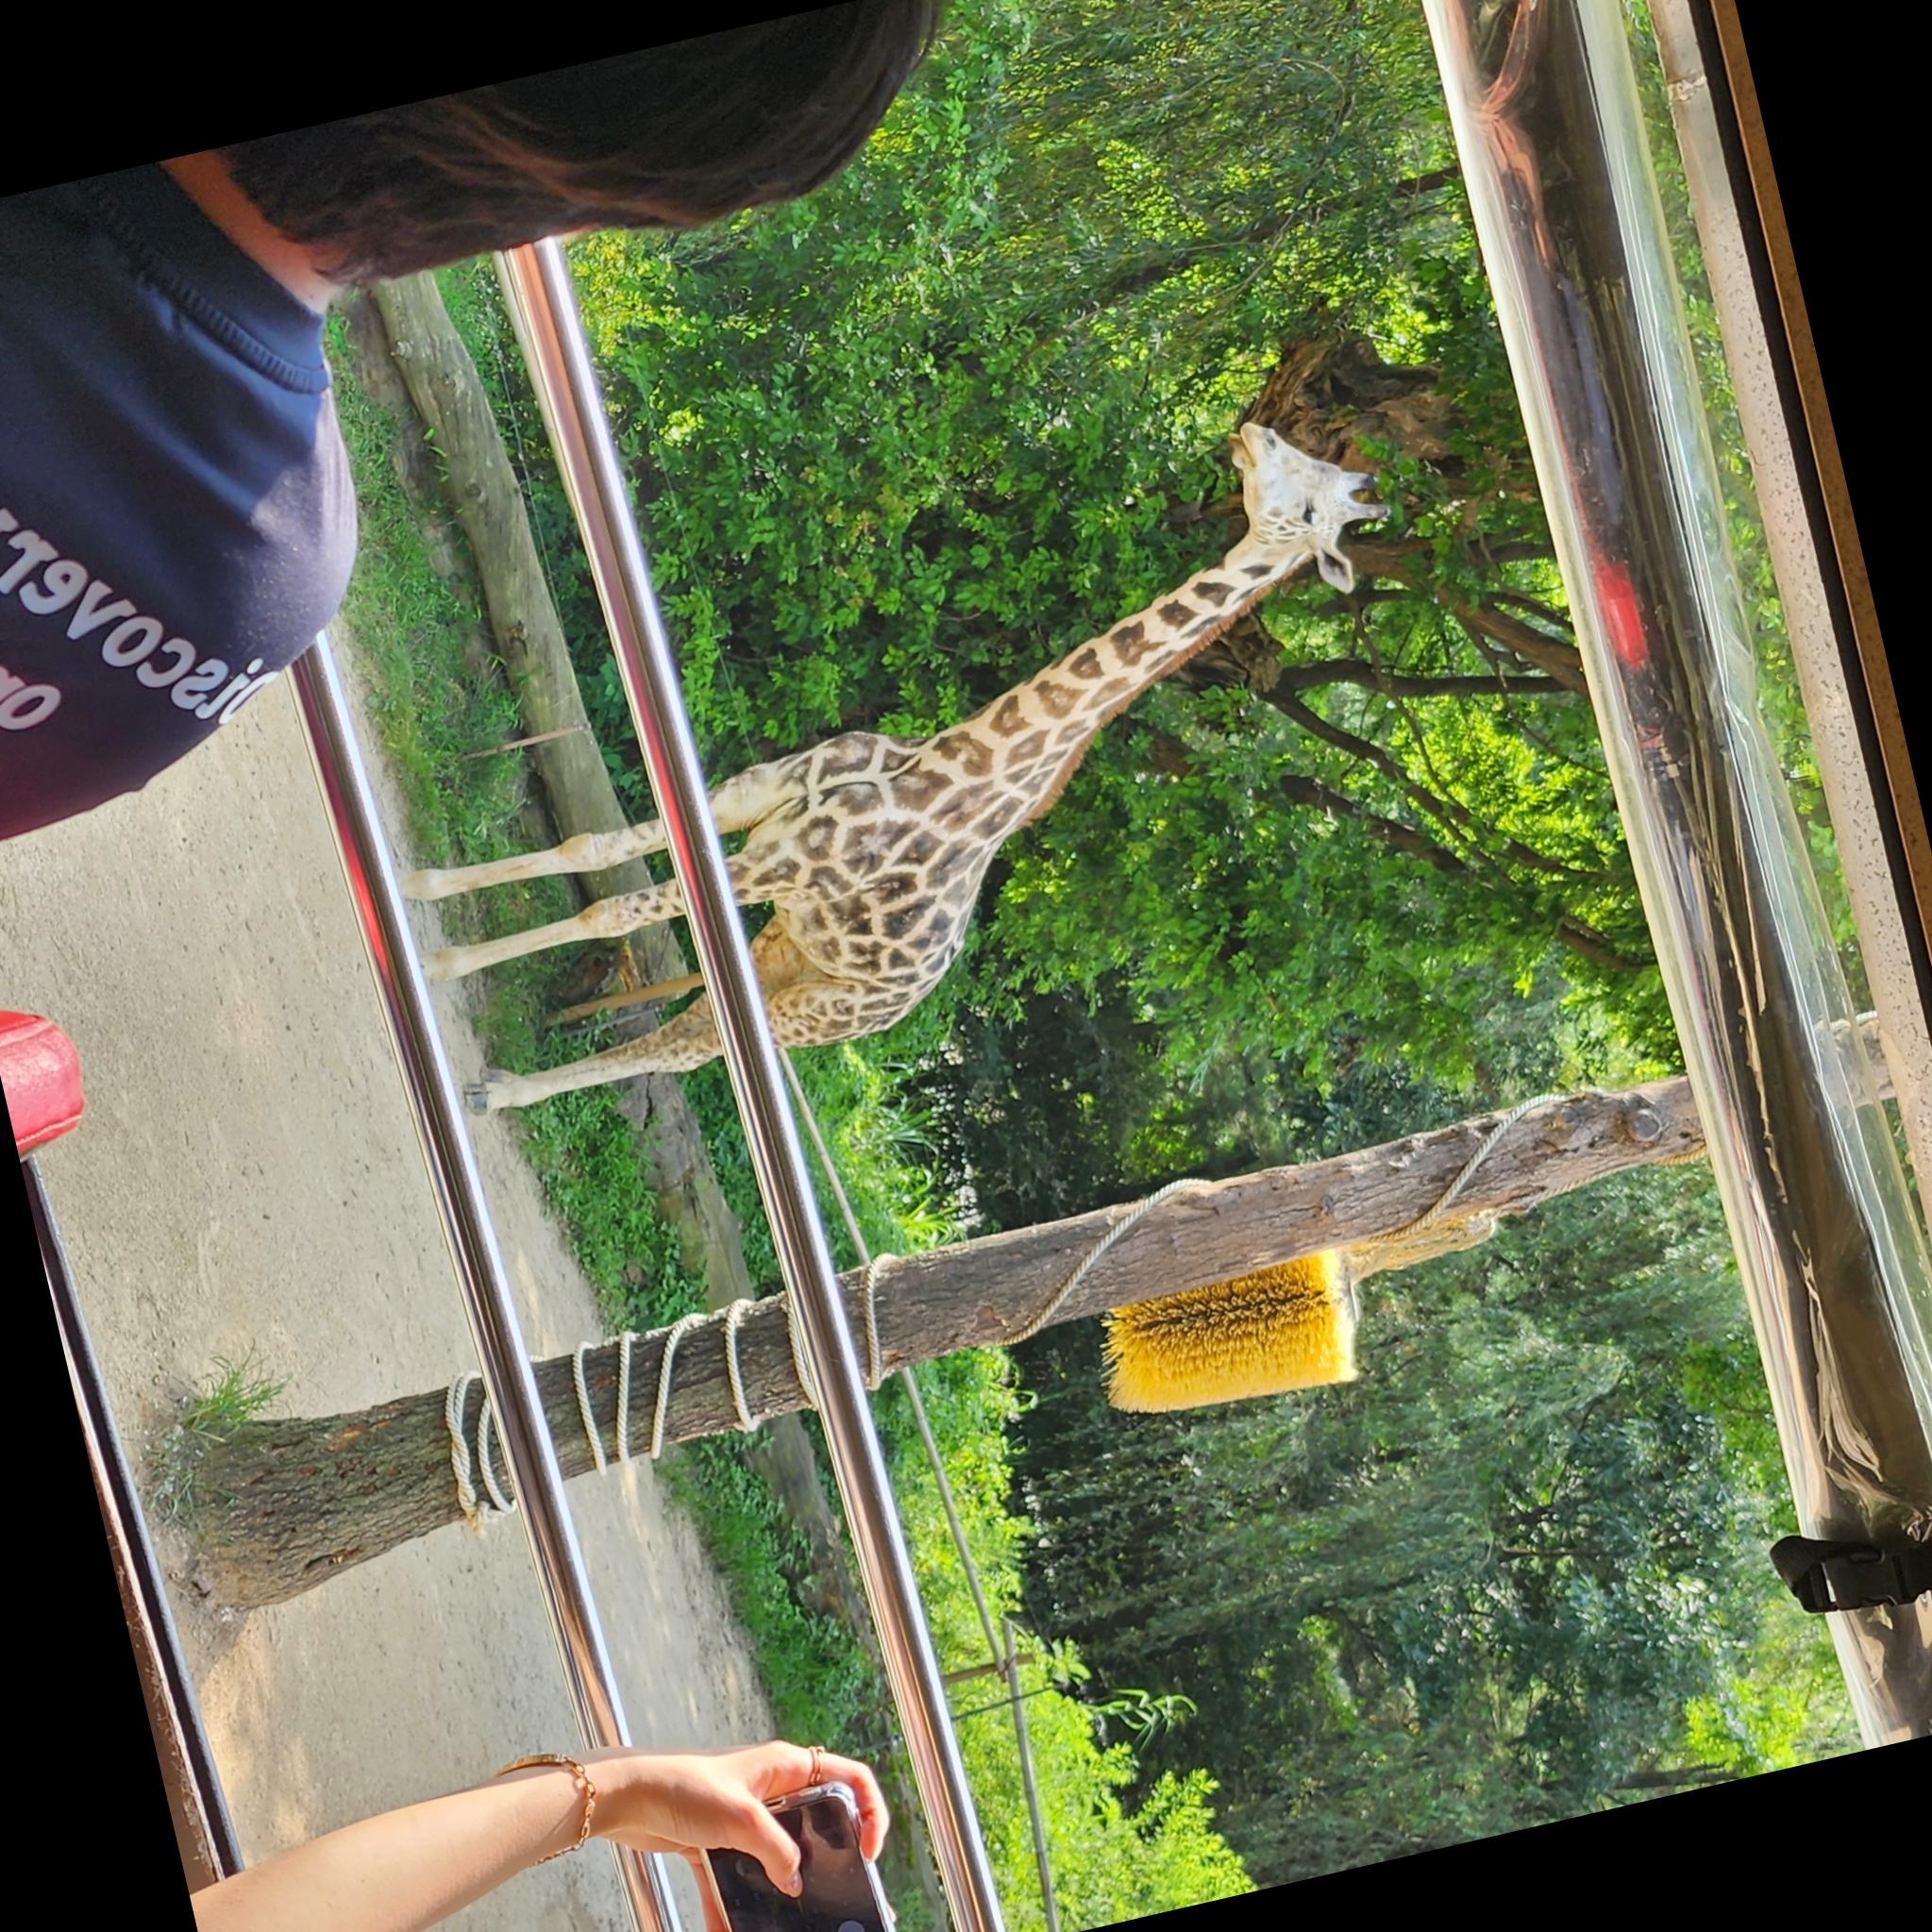giraffe: (393, 451, 1134, 1592)
